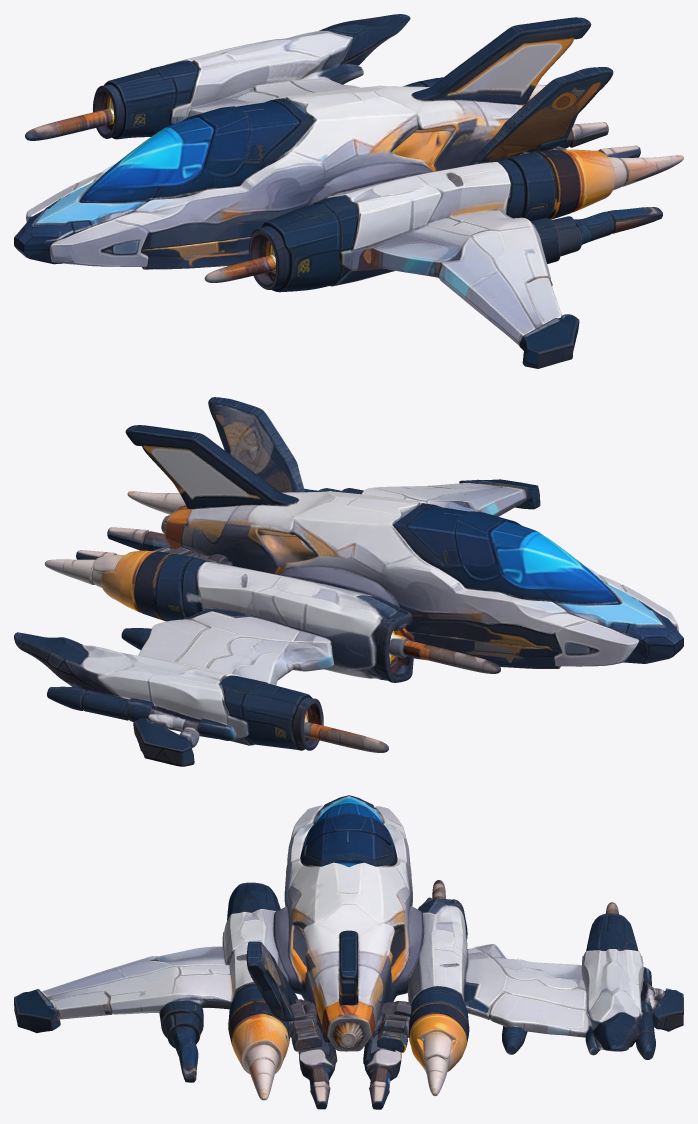
File: meshypesawat.glb
The picture shows the model from 3 angles, top to bottom: view 1: azimuth 30°, elevation 25°; view 2: azimuth 150°, elevation 25°; view 3: azimuth 270°, elevation 25°; orthographic projection. The views are drawn at different scales.
Bounding box in the file's own units: 1.81 × 0.4638 × 1.9.
1 material, 1 textured.
